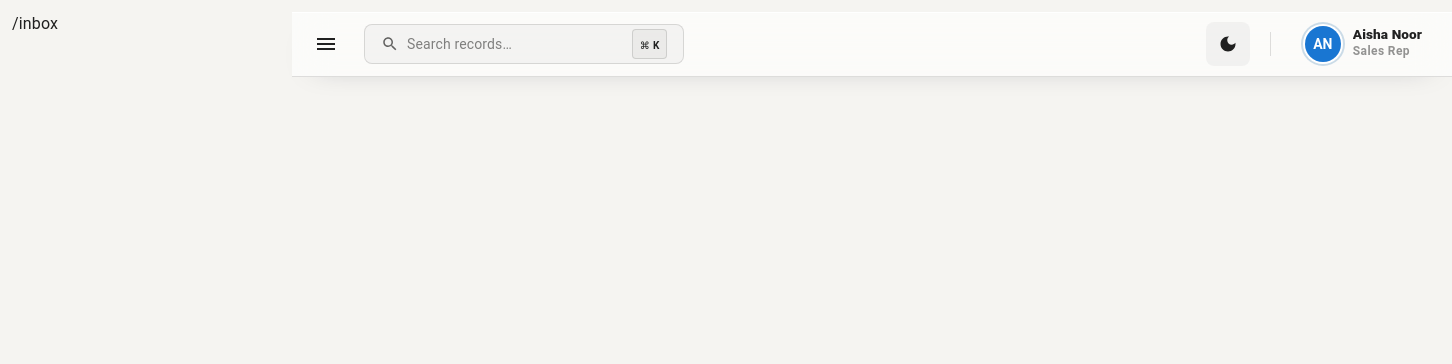
Test: Navbar global search › labels the dashboard destination truthfully as the workspace home
Click the button with aria-label "account menu": point(1363, 44) [1299,22,1428,66]
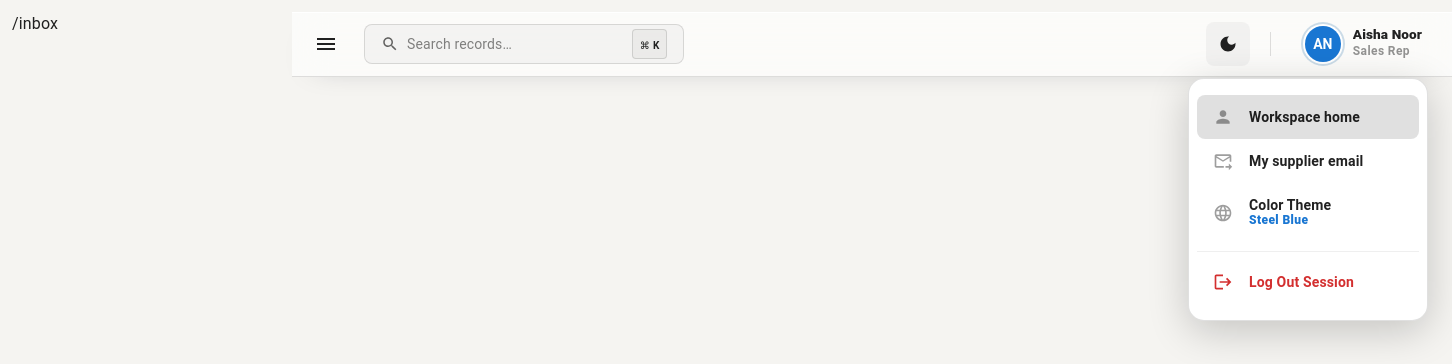
Click the menu item "Workspace home": point(1308, 117) [1197,95,1419,139]
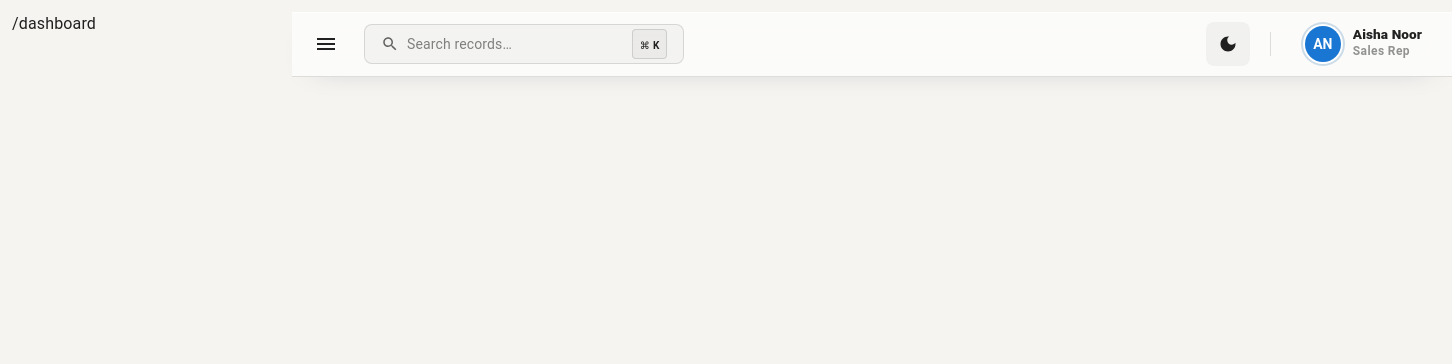
Now the text named "current route" reads "/dashboard", box [12,14,96,33]
